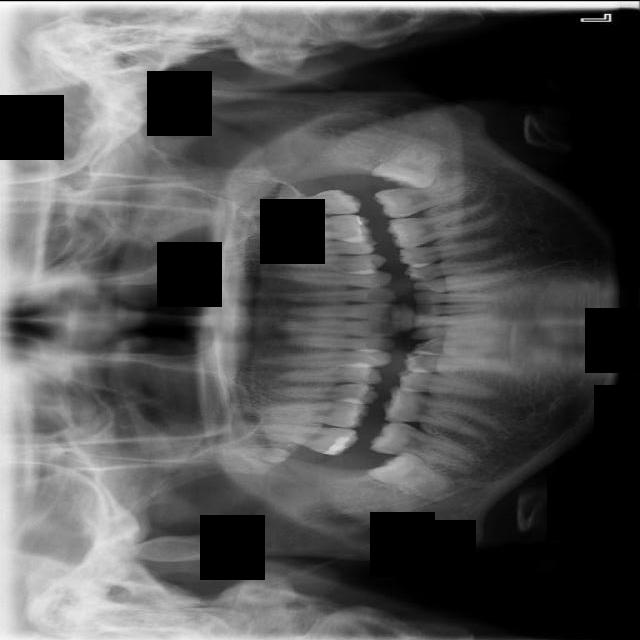3M ESPE Implant: (240, 440, 292, 465)
52: (304, 426, 358, 455)
BioHorizons Implant: (237, 188, 364, 217)
Biomet 3i Implant: (370, 129, 445, 194)
Blue Sky Bio Implant: (371, 170, 477, 223)
Caries: (237, 420, 359, 456)
Implant: (367, 414, 478, 472)
Keystone Dental Implant: (365, 440, 458, 505)
